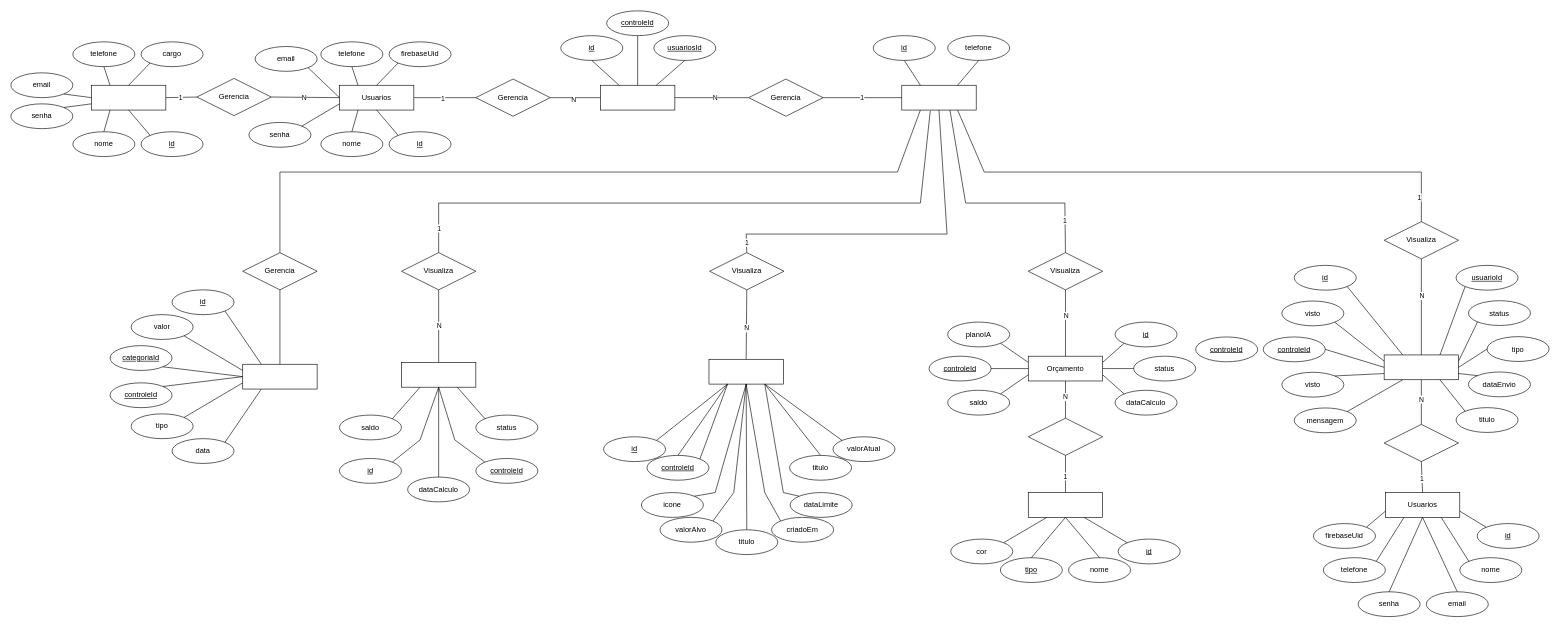
This 1560x627 diagram has some shape labels left out. The box of each missing label's shape, as (x1, y1, x2, y2) in pixels:
Admnistrador: (91, 85, 166, 110)
Categoria: (1028, 492, 1103, 517)
Controles: (901, 85, 976, 110)
Lembretes: (1384, 354, 1459, 380)
Meta: (708, 359, 783, 384)
Possui: (1028, 418, 1103, 455)
Previsão Saldo: (401, 362, 476, 387)
Recebe: (1384, 424, 1459, 462)
Transações: (242, 364, 317, 389)
Usuarios_Controles: (600, 85, 675, 110)
